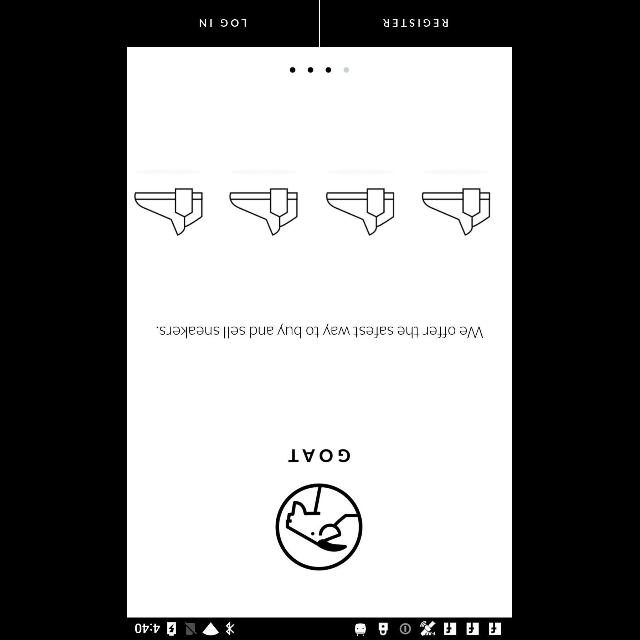image: (276, 484, 364, 570), (230, 168, 300, 236), (422, 170, 492, 237), (328, 170, 396, 237), (136, 169, 204, 235)
pageindicator: (290, 67, 350, 73)
text: (158, 324, 484, 338), (289, 450, 351, 462)
textbutton: (128, 0, 320, 46), (322, 0, 512, 46)
uppertaskbar: (128, 617, 512, 639)
